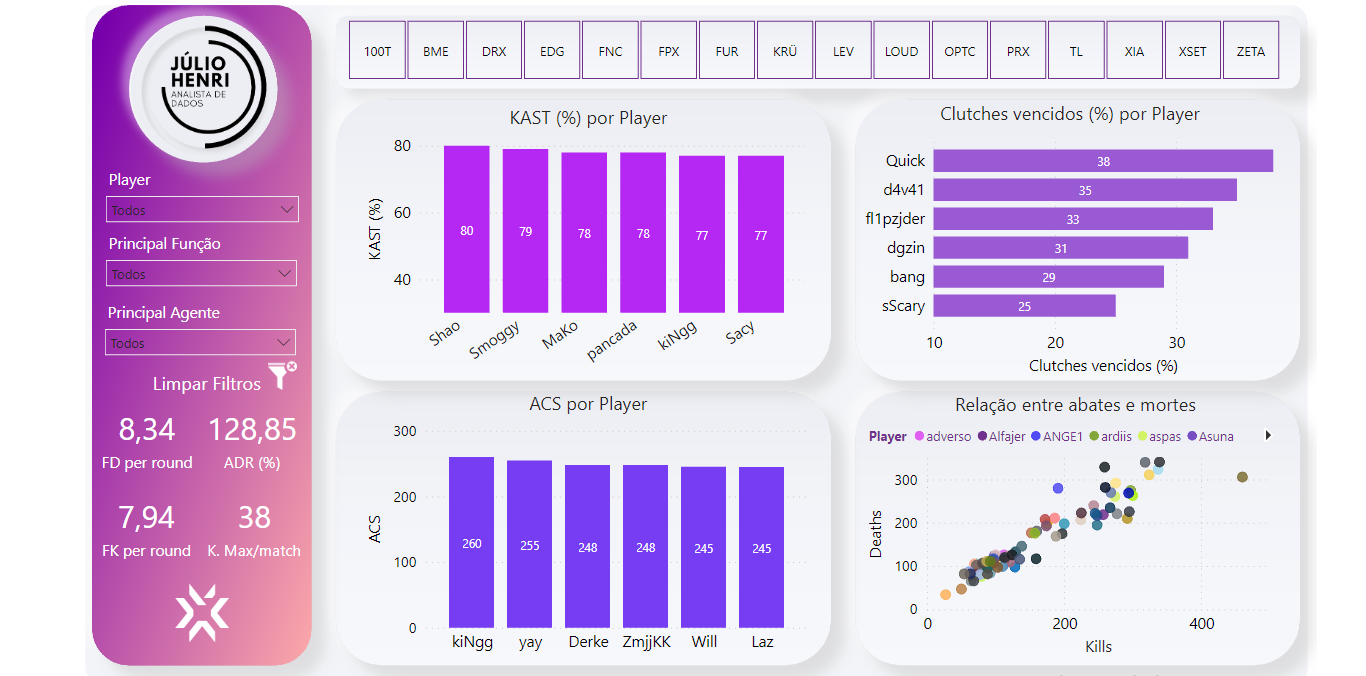

What the dashboard file says about the page in this screenshot:
{"tool":"powerbi","page":{"name":"player stats","canvas":[1280,720],"ordinal":0},"visuals":[{"type":"slicer","fields":{"Values":["Sheet1.Team"]},"box":[258.6,20,1005.7,70],"z":0},{"type":"columnChart","title":"ACS por Player","fields":{"Category":["Sheet1.Player"],"Y":["Sheet1.ACS"]},"box":[297,405.7,463.9,278.7],"z":1000},{"type":"card","fields":{"Values":["Sheet1.ADR"]},"box":[119.8,409.2,126.2,91.8],"z":2000},{"type":"card","fields":{"Values":["Sheet1.FKPR"]},"box":[20.4,495.9,105.8,99.4],"z":3000},{"type":"card","fields":{"Values":["Sheet1.FDPR"]},"box":[20.4,409.2,107.1,91.8],"z":4000},{"type":"card","fields":{"Values":["Sheet1.KMax"]},"box":[128.8,495.9,112.2,99.4],"z":5000},{"type":"slicer","fields":{"Values":["Sheet1.Main Role"]},"box":[21.7,238.4,216.7,67.6],"z":6000},{"type":"slicer","fields":{"Values":["Sheet1.Main Agent"]},"box":[20.4,308.5,216.7,61.2],"z":7000},{"type":"barChart","title":"Clutches vencidos (%) por Player","fields":{"Y":["Sheet1.CL%"],"Category":["Sheet1.Player"]},"box":[801.4,107.1,447.1,287.1],"z":8000},{"type":"columnChart","title":"KAST (%) por Player","fields":{"Category":["Sheet1.Player"],"Y":["Sheet1.KAST"]},"box":[297.1,111.4,464.3,287.1],"z":9000},{"type":"scatterChart","title":"Relação entre abates e mortes","fields":{"X":["Sheet1.K"],"Y":["Sheet1.D"],"Series":["Sheet1.Player"]},"box":[812.9,407.1,435.7,277.1],"z":10000},{"type":"slicer","fields":{"Values":["Sheet1.Player"]},"box":[21.7,172.1,219.3,61.2],"z":11000},{"type":"image","box":[25.5,12.7,230.8,155.5],"z":12000},{"type":"image","box":[188.1,369.4,49.7,39.5],"z":13000,"group":"g1"},{"type":"group","id":"g1","title":"Grupo 1","box":[75.1,369.4,162.7,54.1],"z":13000},{"type":"textbox","box":[75.1,379.2,132.9,44.3],"z":14000,"group":"g1"},{"type":"image","box":[86.7,599.2,89.2,70.1],"z":14000}]}

Visuals, with their boxes on the page's 1280x720 design canvas (x1, y1, x2, y2). These are canvas units, not pixel positions in the 1366x676 screenshot, which may show the page scaled, cropped or inside an application window:
slicer - Sheet1.Team: {"left": 259, "top": 20, "right": 1264, "bottom": 90}
"ACS por Player" columnChart: {"left": 297, "top": 406, "right": 761, "bottom": 684}
card - Sheet1.ADR: {"left": 120, "top": 409, "right": 246, "bottom": 501}
card - Sheet1.FKPR: {"left": 20, "top": 496, "right": 126, "bottom": 595}
card - Sheet1.FDPR: {"left": 20, "top": 409, "right": 128, "bottom": 501}
card - Sheet1.KMax: {"left": 129, "top": 496, "right": 241, "bottom": 595}
slicer - Sheet1.Main Role: {"left": 22, "top": 238, "right": 238, "bottom": 306}
slicer - Sheet1.Main Agent: {"left": 20, "top": 308, "right": 237, "bottom": 370}
"Clutches vencidos (%) por Player" barChart: {"left": 801, "top": 107, "right": 1248, "bottom": 394}
"KAST (%) por Player" columnChart: {"left": 297, "top": 111, "right": 761, "bottom": 398}
"Relação entre abates e mortes" scatterChart: {"left": 813, "top": 407, "right": 1249, "bottom": 684}
slicer - Sheet1.Player: {"left": 22, "top": 172, "right": 241, "bottom": 233}
image: {"left": 26, "top": 13, "right": 256, "bottom": 168}
image: {"left": 188, "top": 369, "right": 238, "bottom": 409}
"Grupo 1" group: {"left": 75, "top": 369, "right": 238, "bottom": 424}
textbox: {"left": 75, "top": 379, "right": 208, "bottom": 424}
image: {"left": 87, "top": 599, "right": 176, "bottom": 669}
